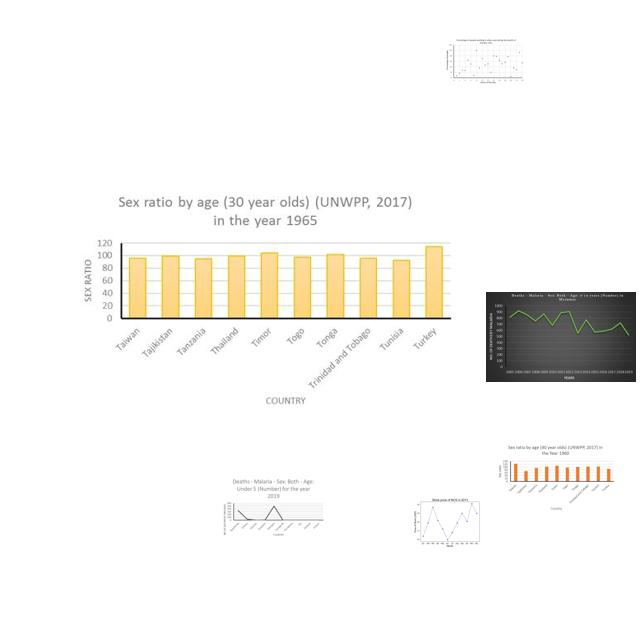Graph: (74, 188, 456, 410), (486, 292, 636, 382), (494, 444, 616, 512), (220, 476, 326, 539), (411, 493, 487, 550), (446, 38, 524, 84)
